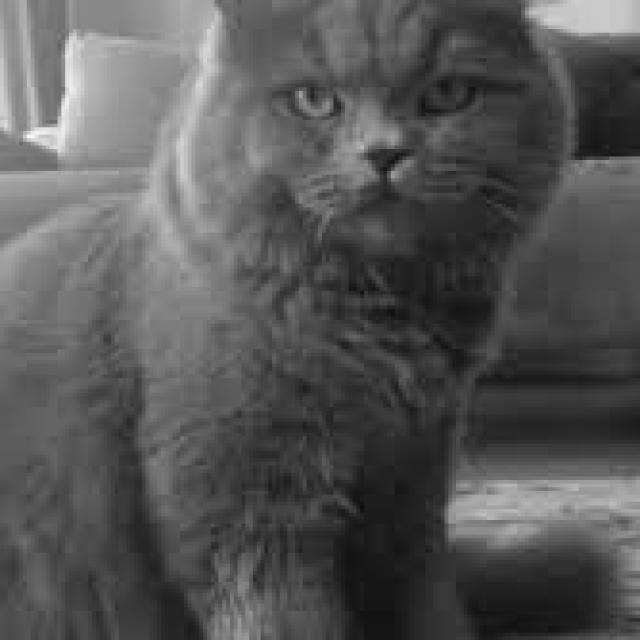british: (155, 0, 582, 278)
